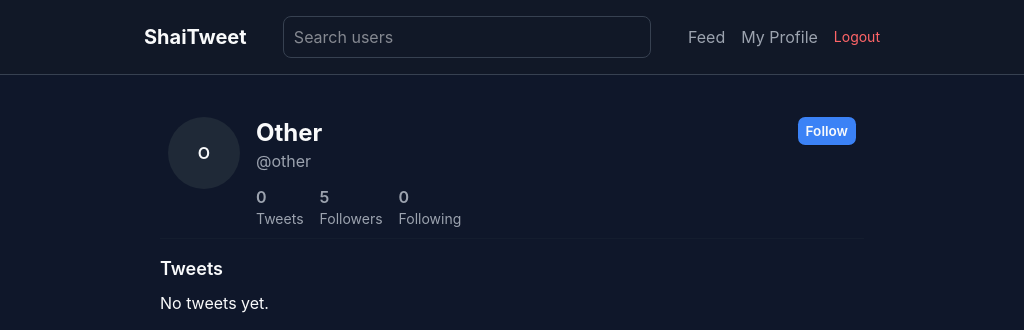
Test case: Follow flow › follows a user and updates the button
Expected: the text "Other" is shown, [256, 118, 322, 147]
Click the button "Follow". click: (827, 131)
box: [798, 117, 856, 145]
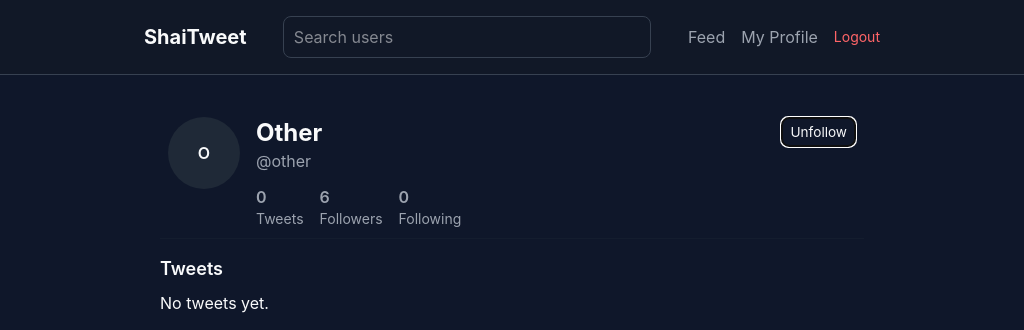
Expected: the button "Unfollow" is shown, [782, 117, 856, 147]
